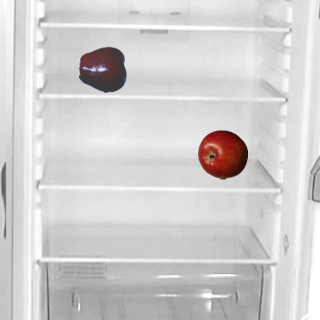Apple Braeburn: (197, 129, 247, 179)
Apple Red Delicious: (78, 44, 128, 94)
